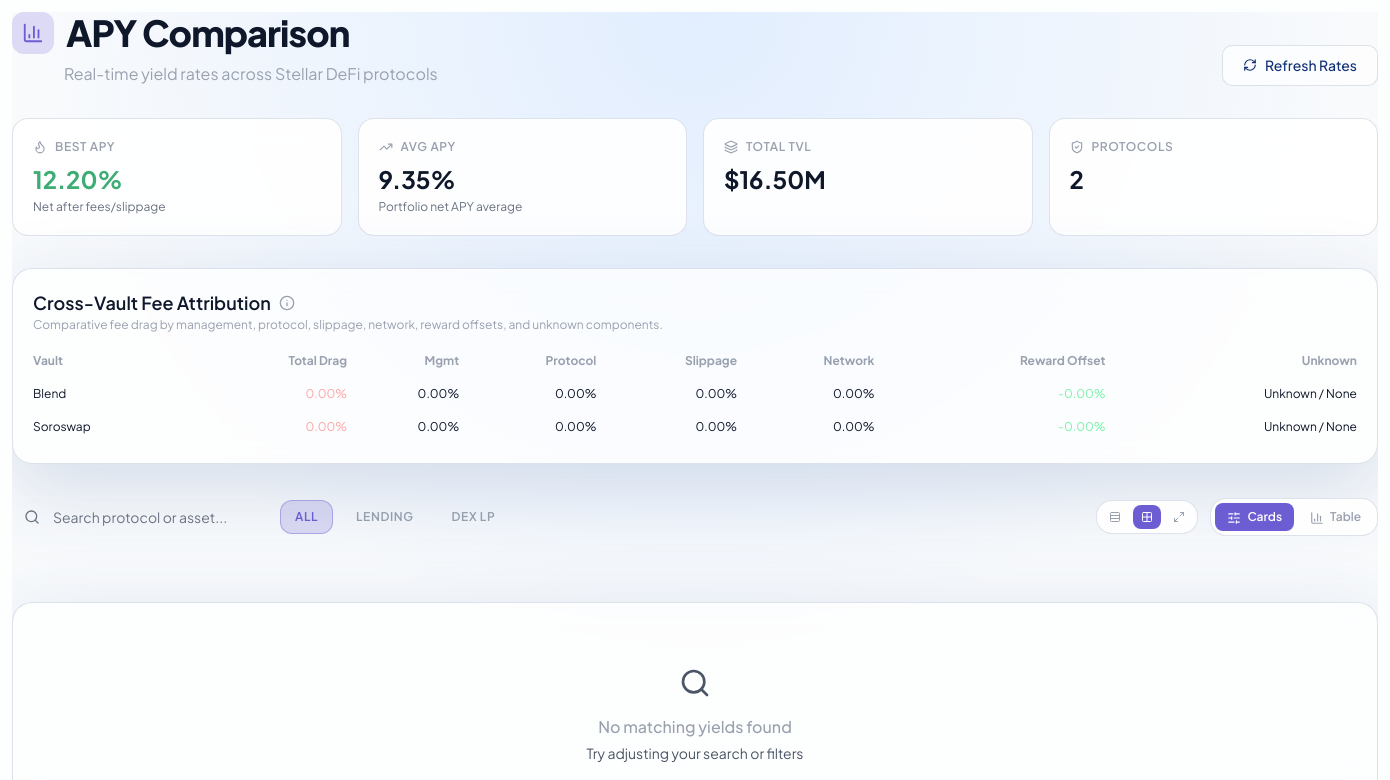
Test: ApyDashboard — accessibility (table view) › sort button aria-pressed reflects active sort field
What coordinates should you click on to do the following:
click the button "Table"
I would click on:
 (1336, 517)
Its box is [1298,503,1373,531].
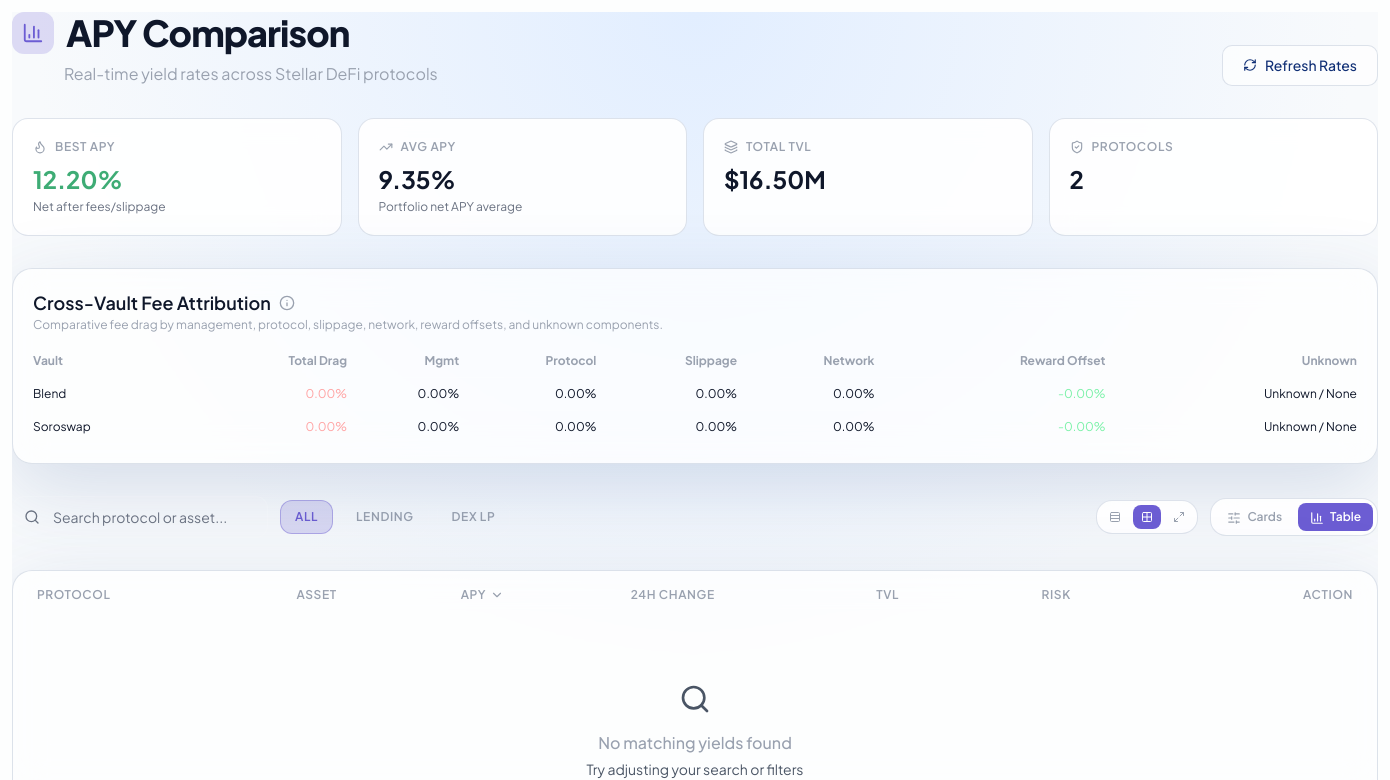
Result: the button "APY" is shown at [461,587,504,603]
